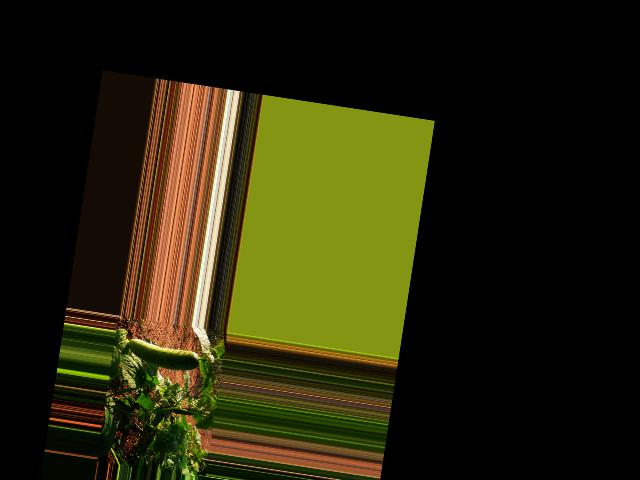cucumber: (125, 337, 200, 373)
